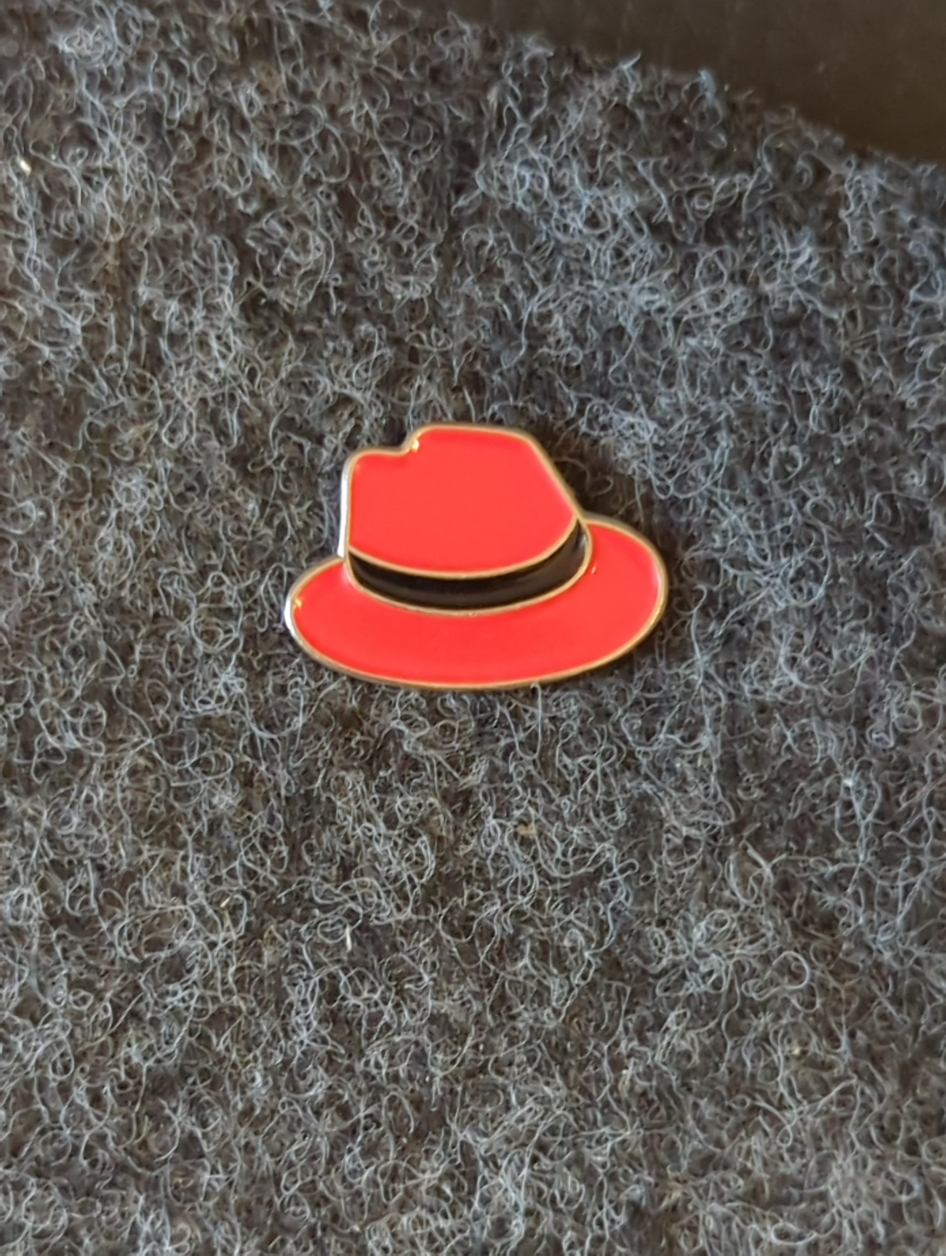Red-Hat: (207, 346, 793, 821)
